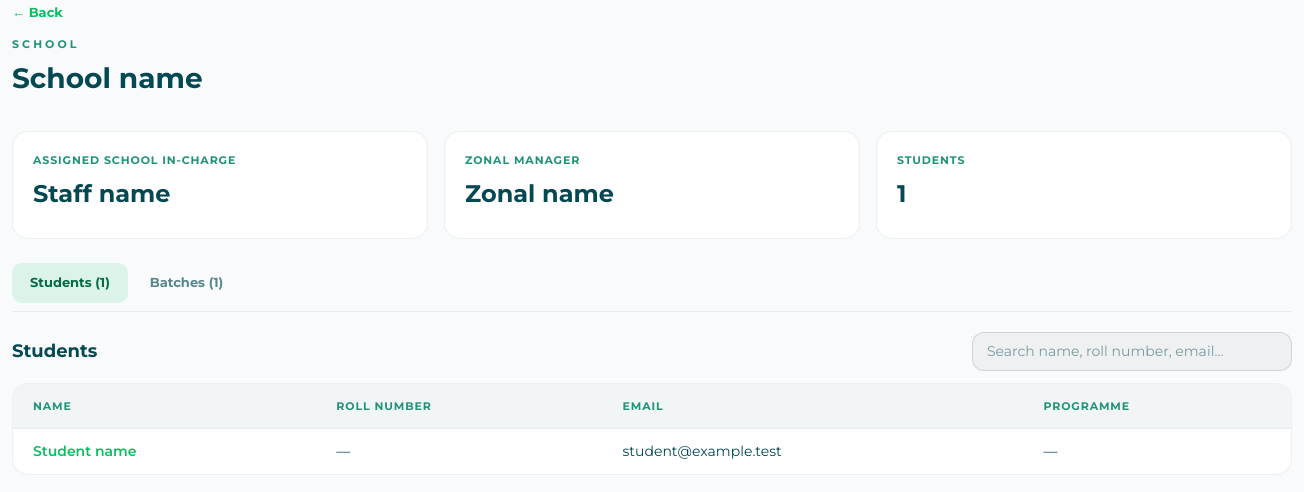
it: merged school detail data and destination gates › links permitted profiles and batches and applies the student contact grant independently
The width and height of the screenshot is (1304, 492).
expect the text "student@example.test" is shown: met, box [602, 428, 1023, 474]
Click the tab "Batches (1)": click(186, 283) [132, 263, 241, 302]
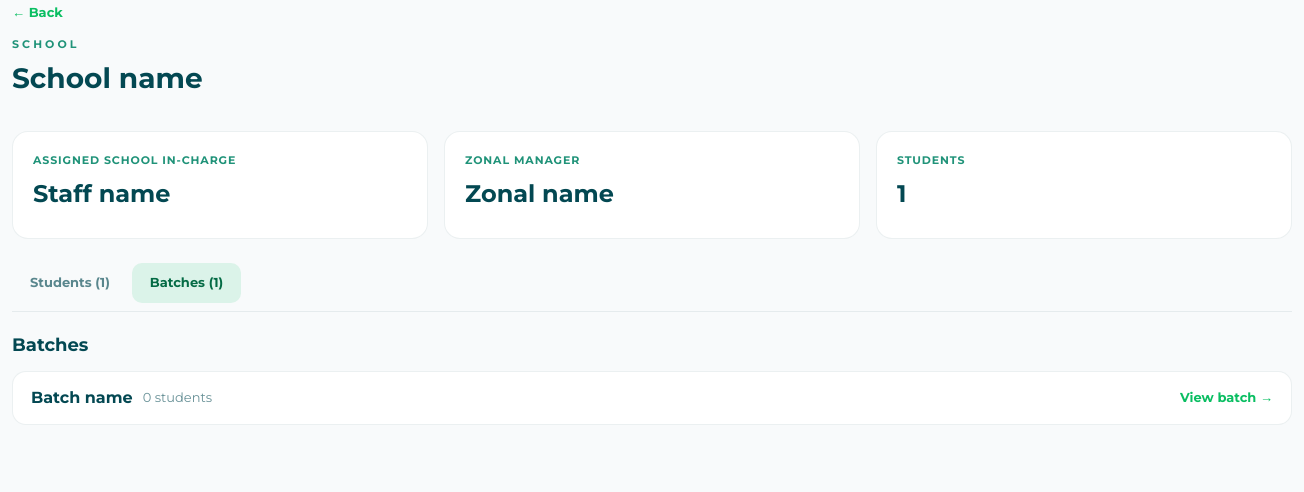
expect the link "Batch name 0 students View batch →" is shown: met, box [12, 370, 1292, 424]
